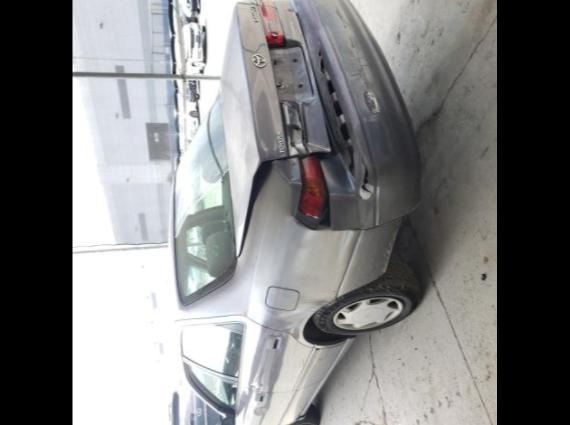Broken part: (216, 0, 340, 264), (290, 0, 422, 234), (300, 154, 326, 217), (282, 96, 308, 154)
Dent: (270, 146, 330, 230)
Missing part: (272, 46, 312, 96)
Scratch: (328, 2, 384, 116)
